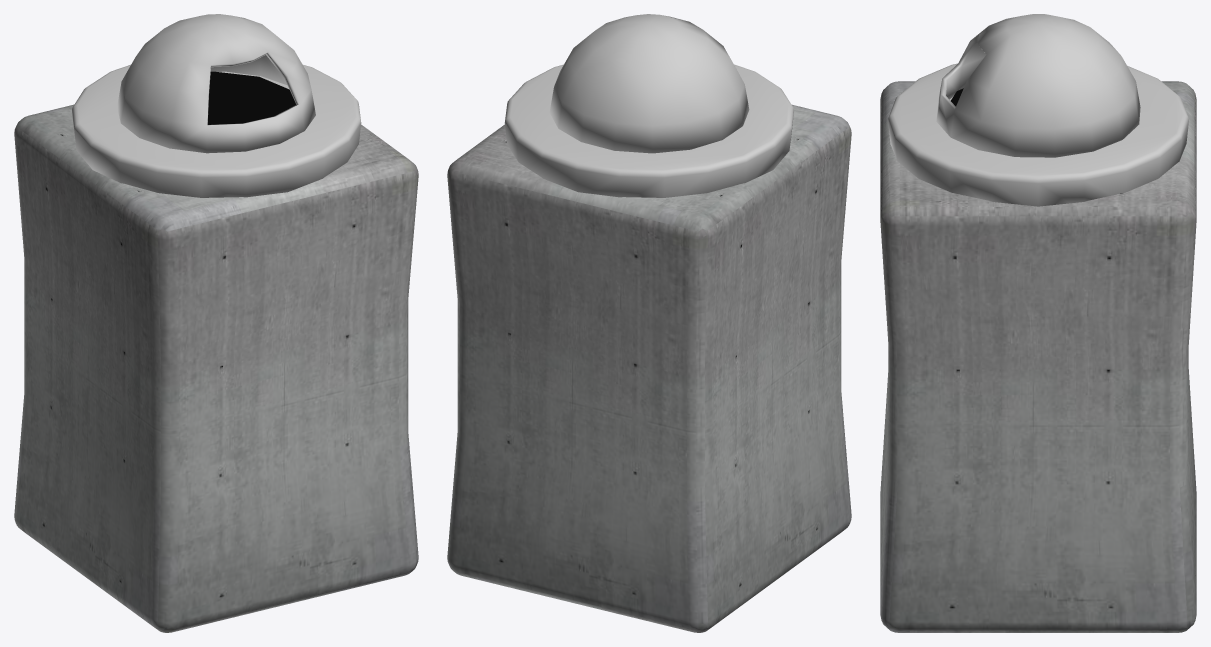
File: outdoor_cement_trashcan_squareA.fbx
The picture shows the model from 3 angles, left to right: view 1: azimuth 30°, elevation 25°; view 2: azimuth 150°, elevation 25°; view 3: azimuth 270°, elevation 25°; orthographic projection. The views are drawn at different scales.
Visible parts, largest first — view 1: canCement_square_B, canShell, canRim, Cylinder01; view 2: canCement_square_B, canShell, canRim; view 3: canCement_square_B, canShell, canRim.
Boxes of the visible parts, <box> form: canCement_square_B: <box>14,104,418,632</box>; canShell: <box>117,14,315,153</box>; canRim: <box>72,64,361,197</box>; Cylinder01: <box>207,71,296,124</box>; canCement_square_B: <box>447,104,851,632</box>; canShell: <box>549,14,749,153</box>; canRim: <box>504,64,793,197</box>; canCement_square_B: <box>880,81,1196,632</box>; canShell: <box>936,14,1140,157</box>; canRim: <box>888,63,1188,206</box>.
Bounding box in the file's own units: 0.6096 × 1.17 × 0.6096.
